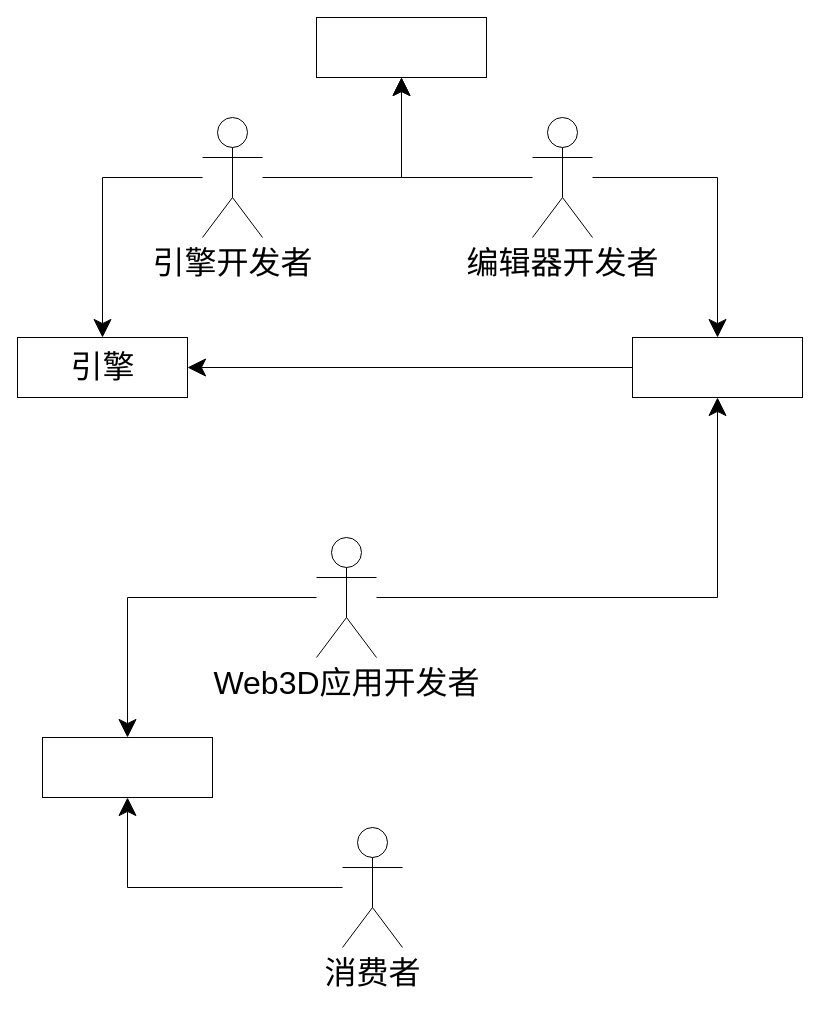
The diagram is 820 pixels wide and 1010 high, and some of its shapes have lost their labels. The shapes that lost their labels are listed below. From the top down, each one's centre as x and y in pixels, then its label:
point (401, 47): Meta3D
point (717, 367): 编辑器
point (127, 767): Web3D应用
